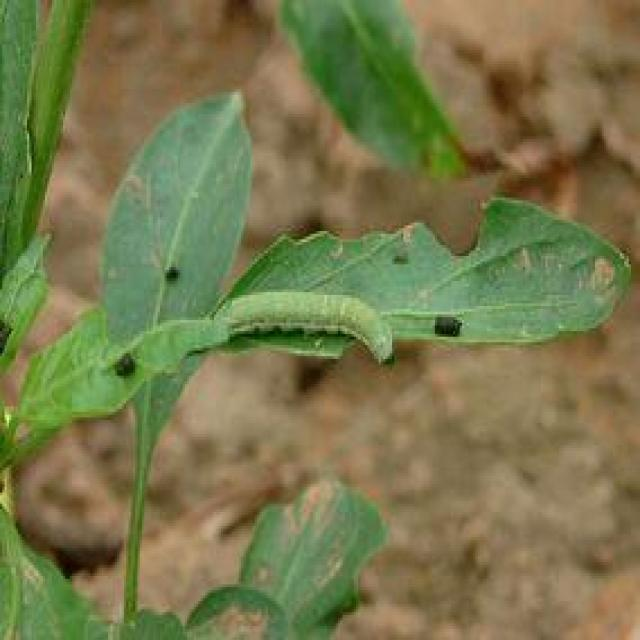BeetArmyWorm-Larva-: (216, 288, 404, 369)
